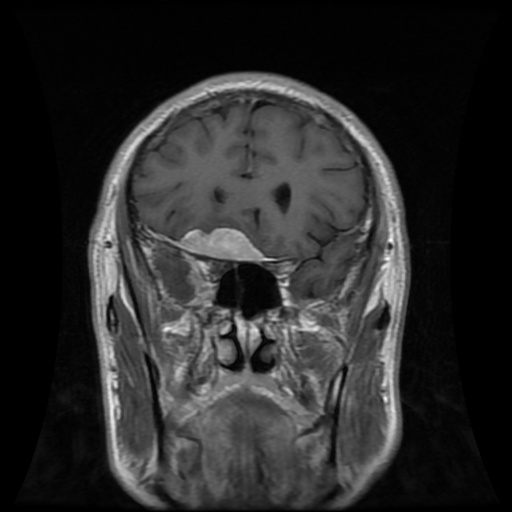meningioma: (177, 227, 264, 259)
